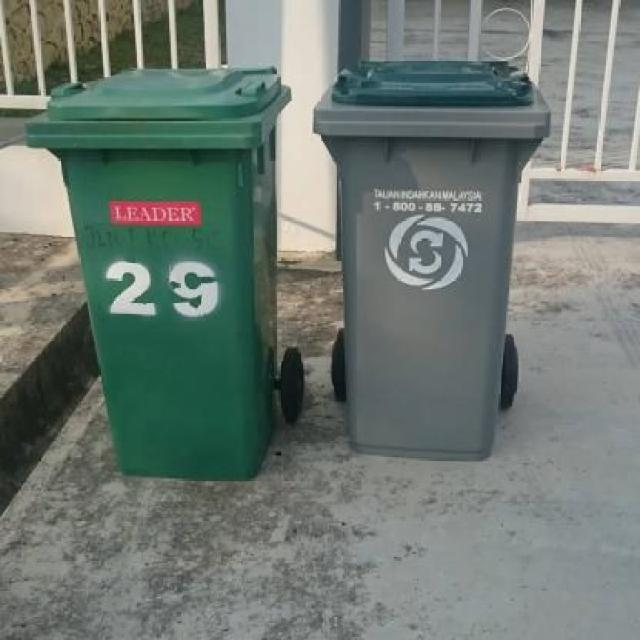garbage container: (17, 60, 310, 501), (301, 48, 564, 487)
